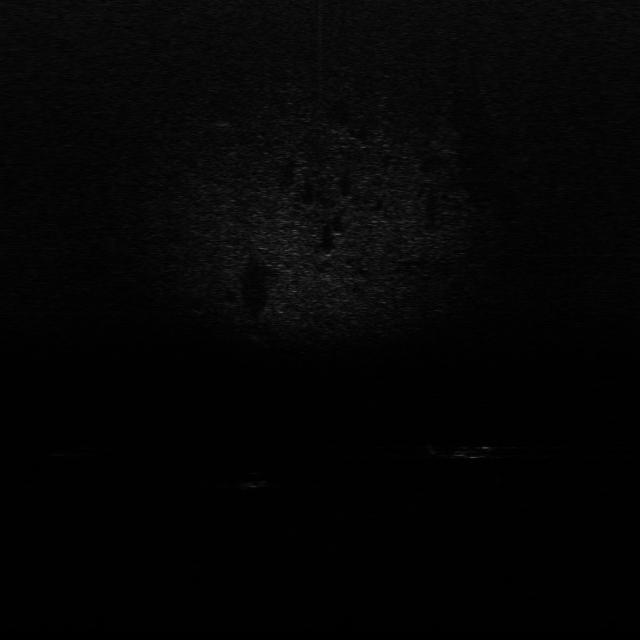ball: (241, 469, 268, 491)
human body: (424, 440, 516, 461)
